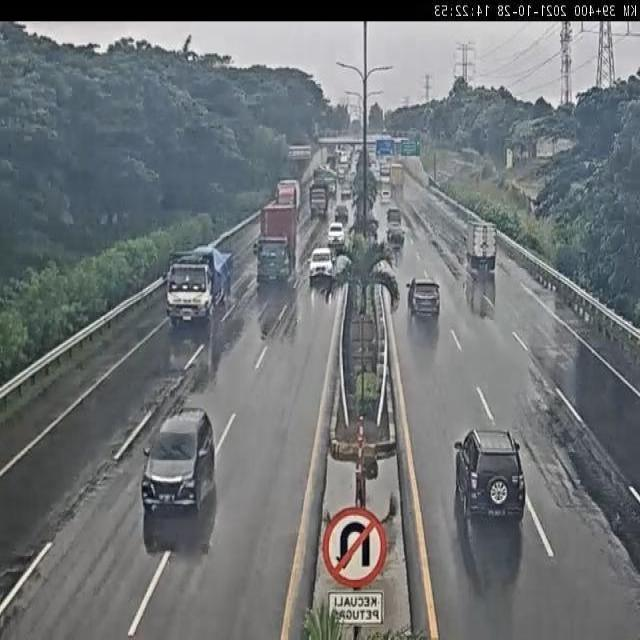Bus: (380, 162, 390, 177)
Car: (141, 408, 216, 525), (453, 428, 526, 523), (407, 276, 441, 319), (308, 246, 335, 284), (327, 221, 345, 248), (333, 204, 349, 226), (386, 204, 402, 221), (336, 165, 347, 184), (341, 183, 351, 200)
Truck: (165, 246, 232, 326), (257, 180, 300, 286), (466, 221, 498, 276), (276, 178, 300, 210), (308, 183, 328, 217), (390, 162, 404, 192), (387, 226, 405, 248)
Van: (380, 188, 391, 204)
